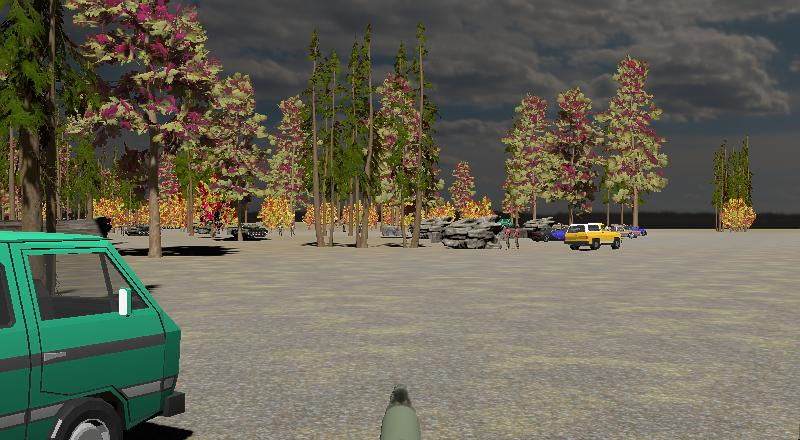Tank: (240, 221, 270, 241), (122, 222, 154, 237)
car: (1, 229, 185, 440), (565, 223, 623, 251), (611, 223, 648, 239)
